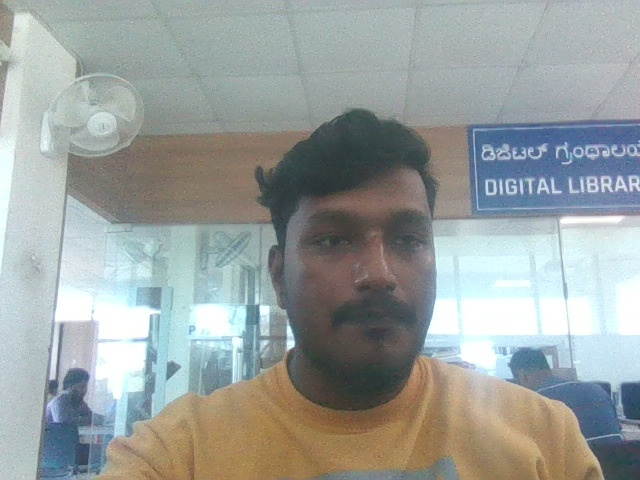real: (255, 94, 465, 391)
